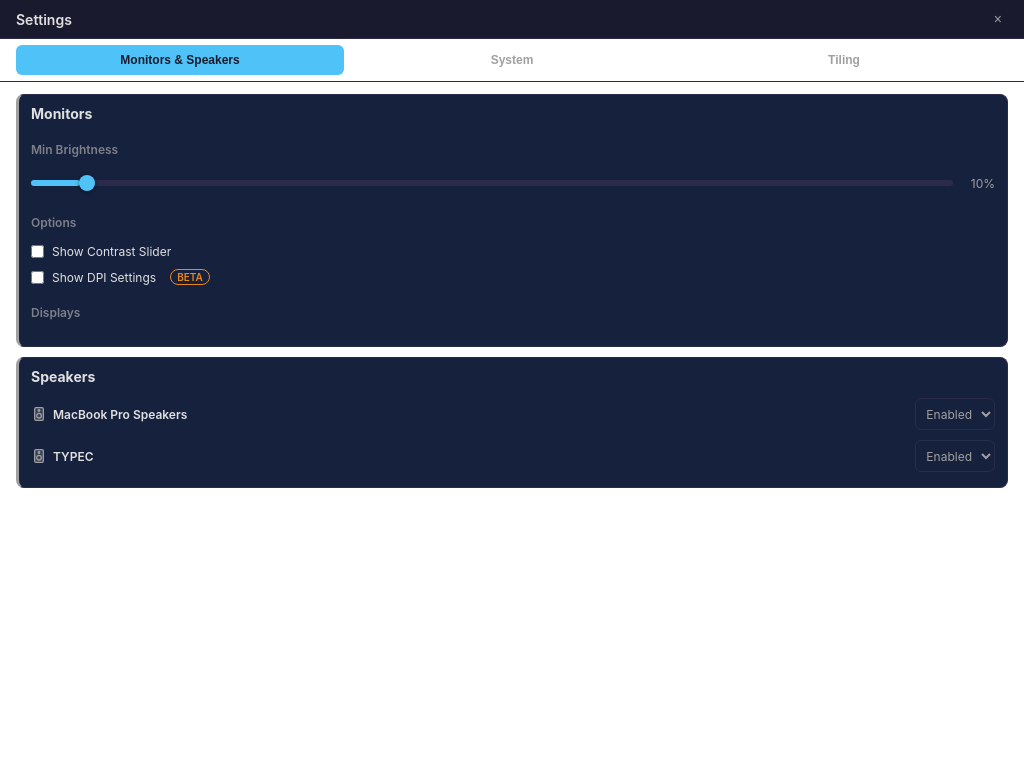
it: SettingsPanel › saves a seconds-level slideshow interval
Step 1. Click the button "System" → (512, 60), box [348,45,676,75]
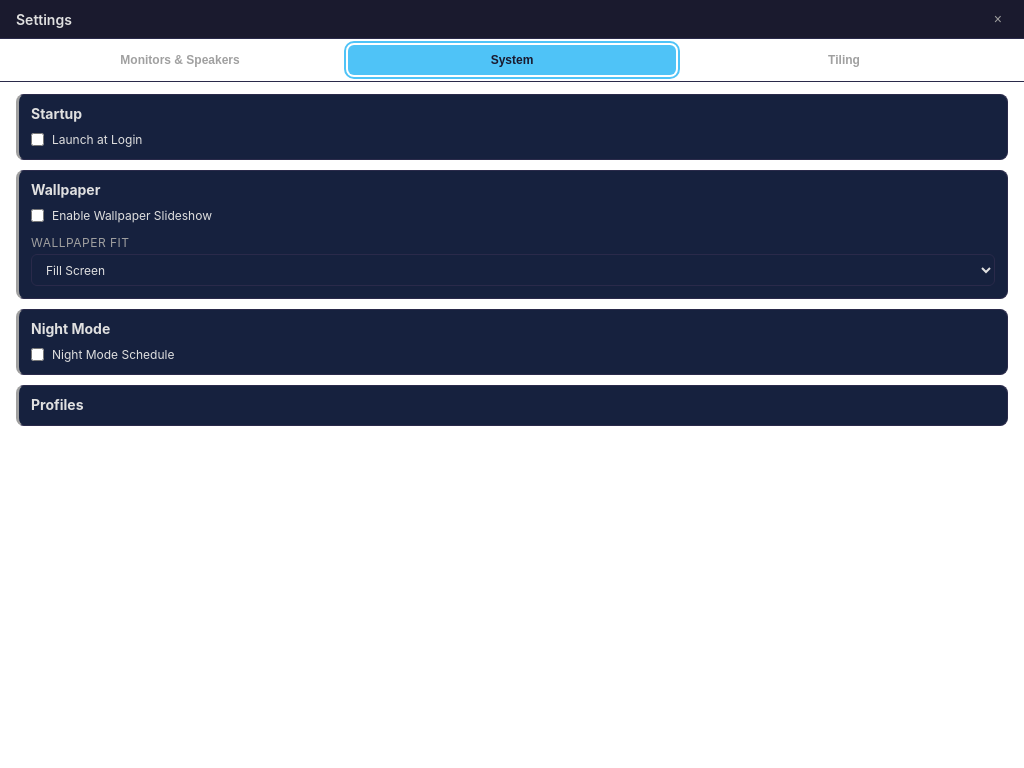
Step 2. Click the checkbox labelled "Enable Wallpaper Slideshow" → (38, 216), box [31,209,44,222]
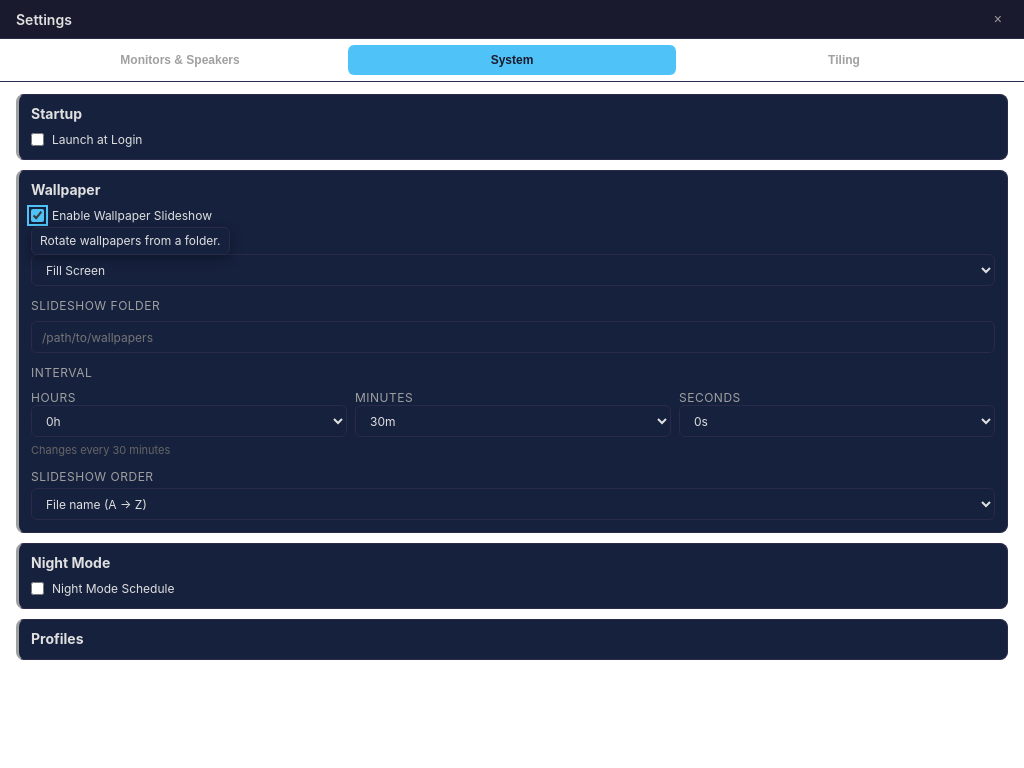
Step 3. Select "0m" in the 3rd dropdown showing "30m" → (513, 421), box [355,405,671,437]
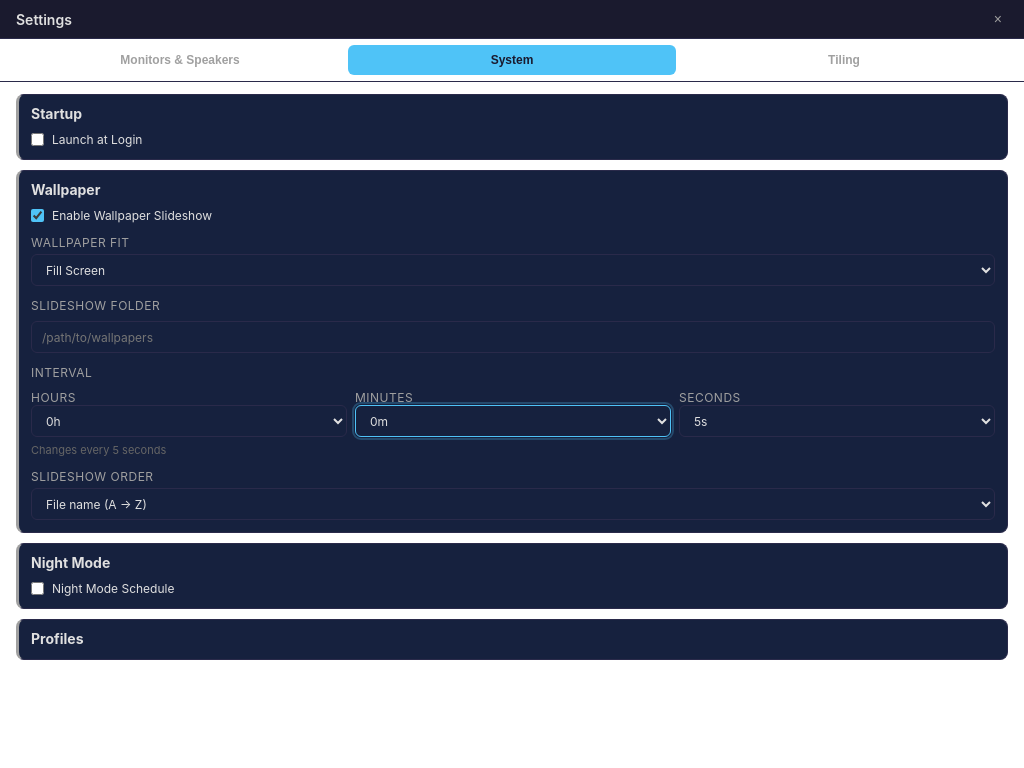
Step 4. Select "10s" in the 4th dropdown showing "5s" → (837, 421), box [679,405,995,437]
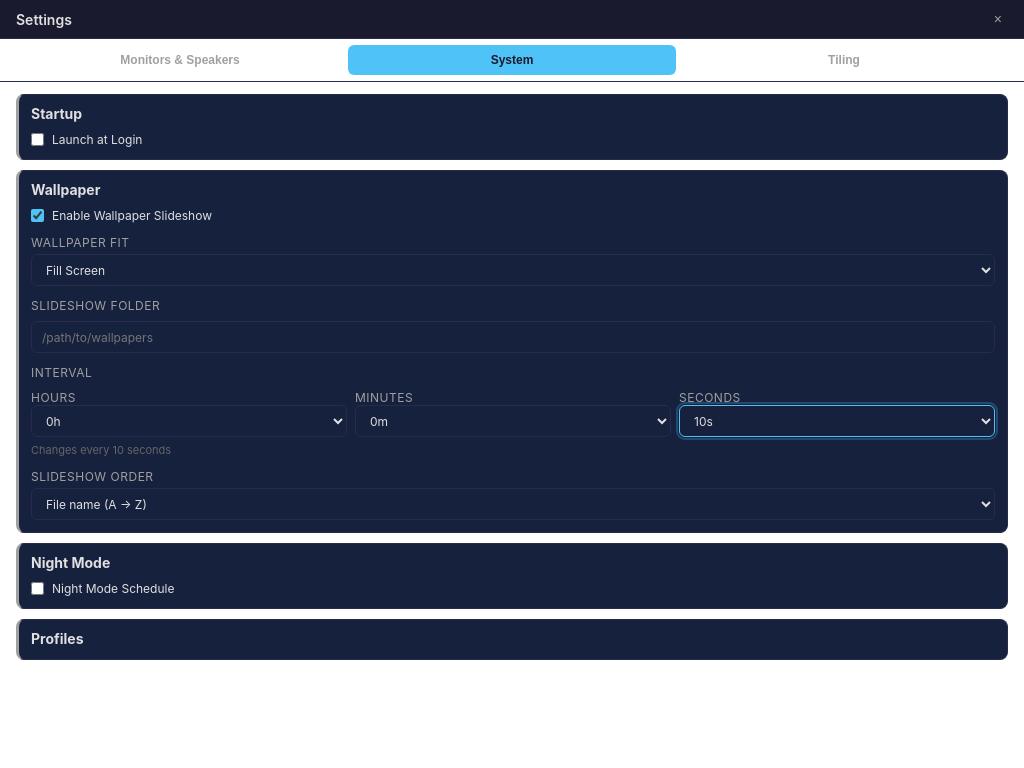
Check: the text "Changes every 10 seconds" is shown, box [31,443,171,457]
